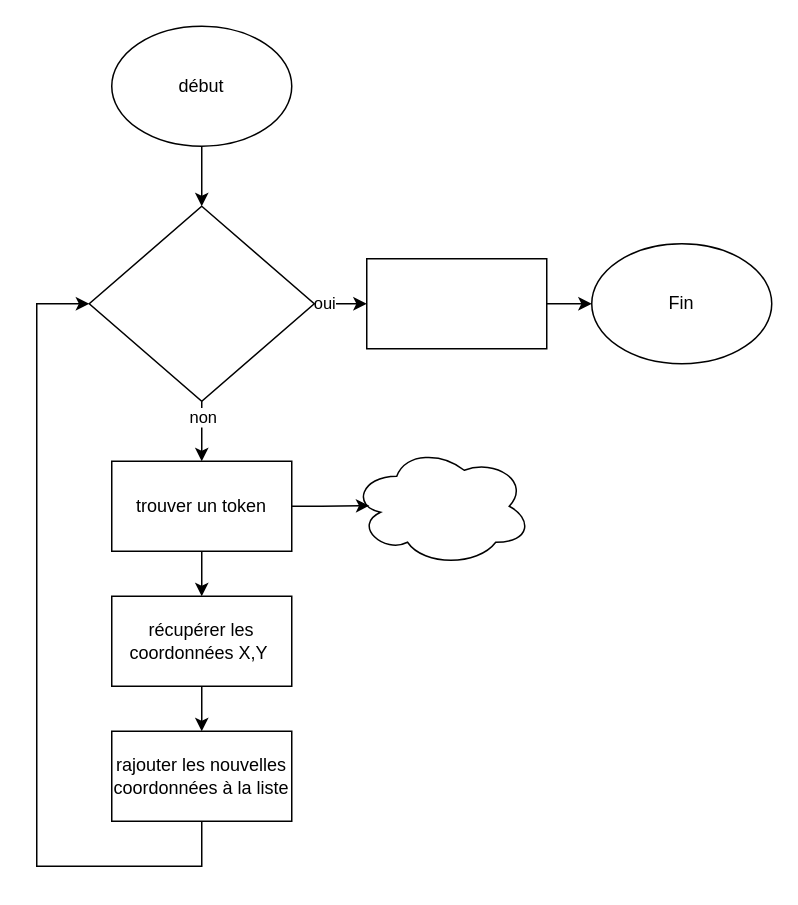
Image size: 798x905. Some labels were removed from this diagram. The shapes that lost their labels are listed below. From the top down, each one's centre as x and y in pixels, then its label:
the point at 201,303: chaîne de charactères finie?
the point at 456,303: retourner liste de coordonnées
the point at 441,505: token : [X,Y]
